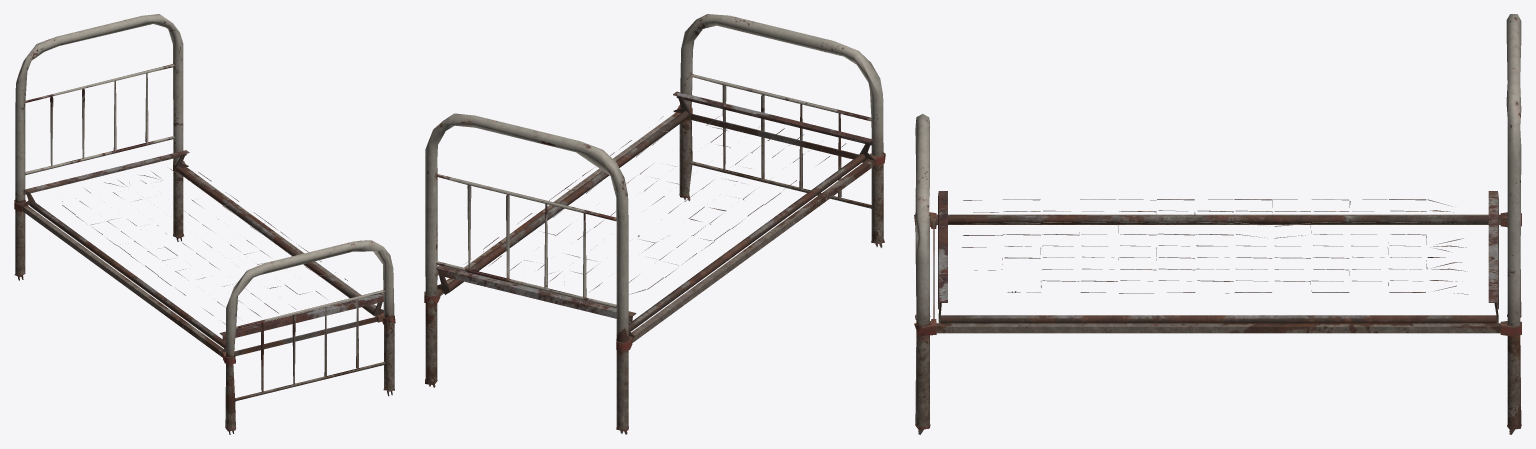
Rendered from old_bed_frame.lod1.glb.
The picture shows the model from 3 angles, left to right: view 1: azimuth 30°, elevation 25°; view 2: azimuth 150°, elevation 25°; view 3: azimuth 270°, elevation 25°; orthographic projection. The views are drawn at different scales.
Visible parts, largest first — view 1: old_bed_frame; view 2: old_bed_frame; view 3: old_bed_frame.
Part boxes in pixels (<box>): old_bed_frame: <box>14,14,395,434</box>; old_bed_frame: <box>424,14,885,434</box>; old_bed_frame: <box>914,14,1521,434</box>.
Bounding box in the file's own units: 0.9047 × 1.19 × 2.
1 material, 1 textured.
